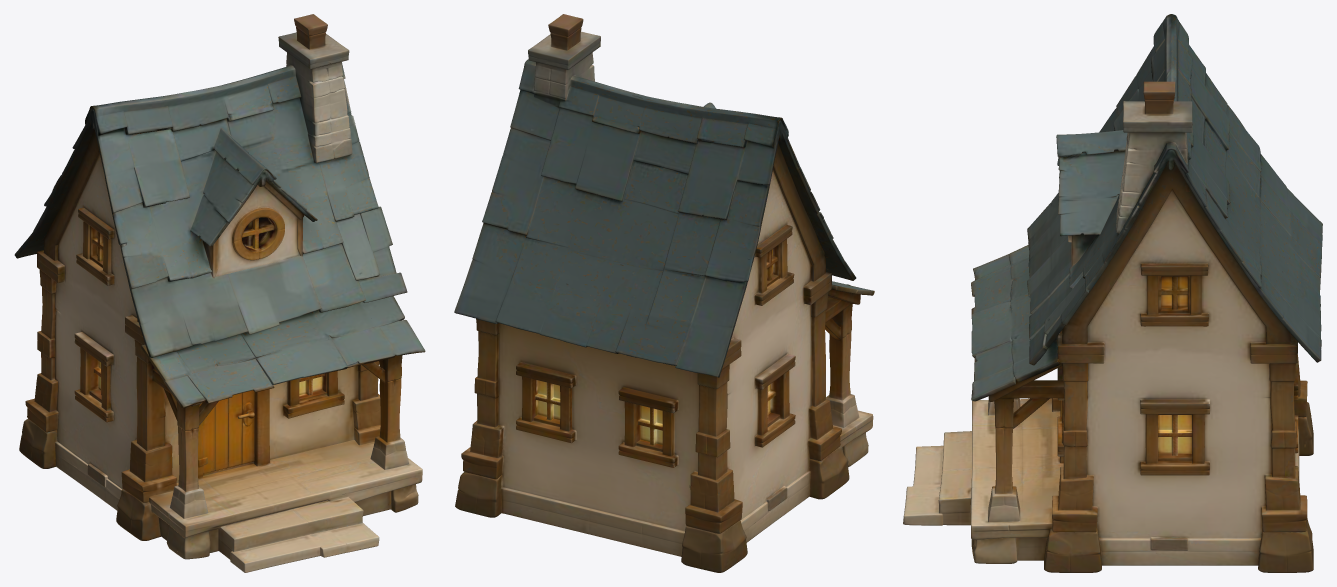
3 renders of one model, left to right at view 1: azimuth 30°, elevation 25°; view 2: azimuth 150°, elevation 25°; view 3: azimuth 270°, elevation 25°, orthographic. The views are drawn at different scales.
Parts seen in each view (by area): view 1: node_0; view 2: node_0; view 3: node_0.
Boxes of the visible parts, x1,y1,x2,y2 form: node_0: [14, 14, 425, 572]; node_0: [454, 14, 874, 572]; node_0: [903, 14, 1322, 572].
Bounding box in the file's own units: 0.5423 × 0.858 × 0.6975.
1 material, 1 textured.
